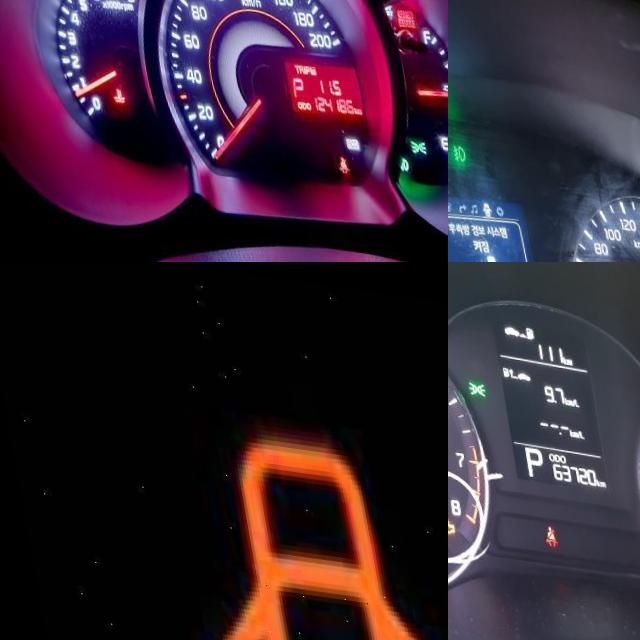Engine cooling system: (96, 80, 109, 98)
FrontFogLight: (448, 132, 457, 154)
SideLamp: (455, 371, 475, 389), (393, 124, 411, 140)
